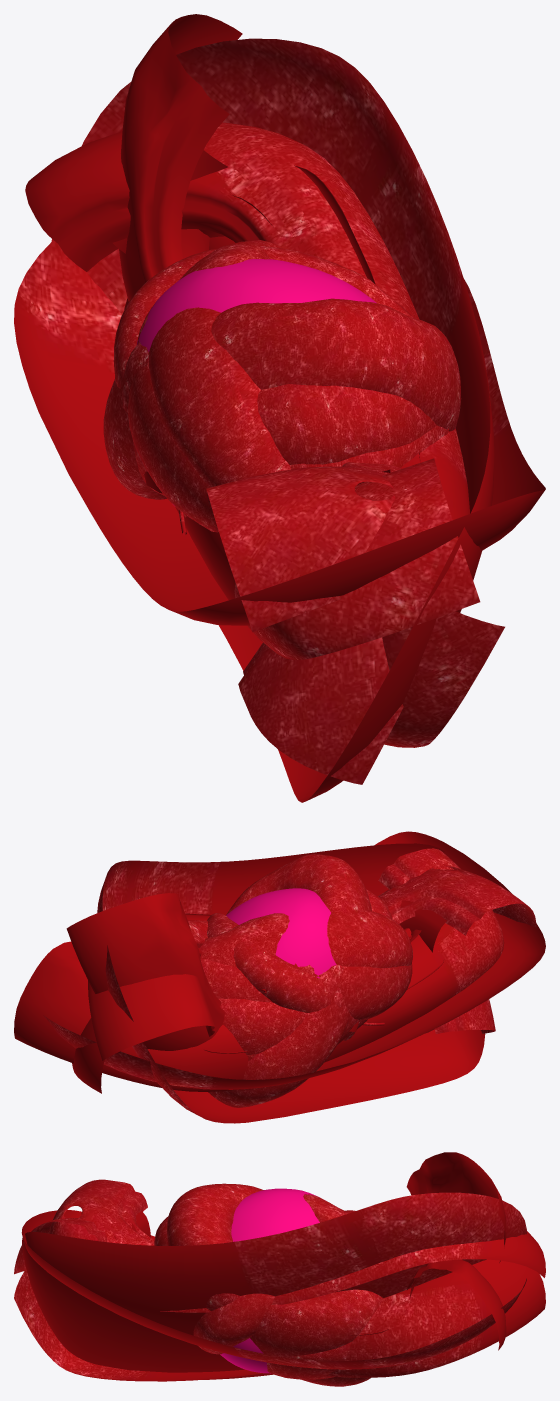
File: platelet-2.tablet.glb
3 renders of one model, top to bottom at view 1: azimuth 30°, elevation 25°; view 2: azimuth 150°, elevation 25°; view 3: azimuth 270°, elevation 25°, orthographic. The views are drawn at different scales.
Visible parts, largest first — view 1: Fishing_boat_Boat_0.302_480, Fishing_boat_Boat_0.026_332, Fishing_boat_Boat_0.001_0, Fishing_boat_Boat_0.030_335, blood.005_522, Fishing_boat_Boat_0.003_164, Fishing_boat_Boat_0.005_3, blood.003_499, blood.009_236, Cube.019_266, blood.007_166, blood.004_309 (+4 smaller); view 2: Fishing_boat_Boat_0.026_332, Fishing_boat_Boat_0.005_3, Fishing_boat_Boat_0.030_335, blood.005_522, Fishing_boat_Boat_0.001_0, Fishing_boat_Boat_0.302_480, Fishing_boat_Boat_0.003_164, blood.003_499, Cube.019_266, blood.007_166, blood.002_165, blood.001_270 (+3 smaller); view 3: Fishing_boat_Boat_0.026_332, Fishing_boat_Boat_0.003_164, Fishing_boat_Boat_0.030_335, Fishing_boat_Boat_0.001_0, Fishing_boat_Boat_0.302_480, blood.005_522, Cube.019_266, blood.001_270, blood.007_166, Fishing_boat_Boat_0.005_3, blood.004_309, blood.003_499.
Part boxes in pixels (box(x1,y1,x2,y2)): Fishing_boat_Boat_0.302_480: box(25, 122, 469, 784); Fishing_boat_Boat_0.026_332: box(51, 38, 494, 802); Fishing_boat_Boat_0.001_0: box(14, 240, 545, 625); Fishing_boat_Boat_0.030_335: box(119, 14, 504, 747); blood.005_522: box(103, 298, 461, 499); Fishing_boat_Boat_0.003_164: box(206, 462, 401, 632); Fishing_boat_Boat_0.005_3: box(124, 298, 480, 659); blood.003_499: box(149, 240, 290, 487); blood.009_236: box(121, 384, 436, 495); Cube.019_266: box(136, 259, 376, 505); blood.007_166: box(113, 246, 414, 517); blood.004_309: box(134, 431, 218, 532); Fishing_boat_Boat_0.026_332: box(97, 843, 485, 1123); Fishing_boat_Boat_0.005_3: box(14, 848, 504, 1091); Fishing_boat_Boat_0.030_335: box(66, 893, 434, 1050); blood.005_522: box(208, 854, 371, 1107); Fishing_boat_Boat_0.001_0: box(43, 831, 545, 1089); Fishing_boat_Boat_0.302_480: box(88, 920, 495, 1060); Fishing_boat_Boat_0.003_164: box(72, 865, 536, 1093); blood.003_499: box(200, 910, 412, 968); Cube.019_266: box(226, 888, 336, 978); blood.007_166: box(207, 913, 354, 1040); blood.002_165: box(218, 992, 367, 1054); blood.001_270: box(200, 958, 387, 1017); Fishing_boat_Boat_0.026_332: box(22, 1192, 526, 1379); Fishing_boat_Boat_0.003_164: box(48, 1179, 545, 1377); Fishing_boat_Boat_0.030_335: box(14, 1152, 506, 1381); Fishing_boat_Boat_0.001_0: box(21, 1210, 526, 1369); Fishing_boat_Boat_0.302_480: box(47, 1231, 545, 1326); blood.005_522: box(166, 1183, 370, 1386); Cube.019_266: box(220, 1188, 319, 1373); blood.001_270: box(269, 1289, 383, 1350); blood.007_166: box(193, 1210, 355, 1354); Fishing_boat_Boat_0.005_3: box(14, 1218, 506, 1350); blood.004_309: box(250, 1307, 325, 1356); blood.003_499: box(266, 1194, 351, 1379).
Bounding box in the file's own units: 73976 × 63165 × 111842.
Materials: 5 (3 with a texture image).
